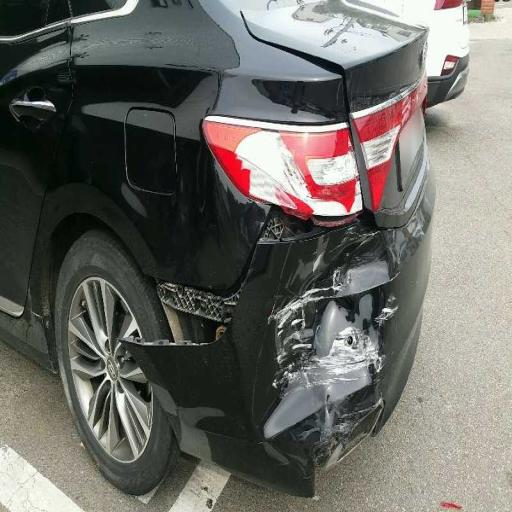broken: (196, 114, 434, 479)
